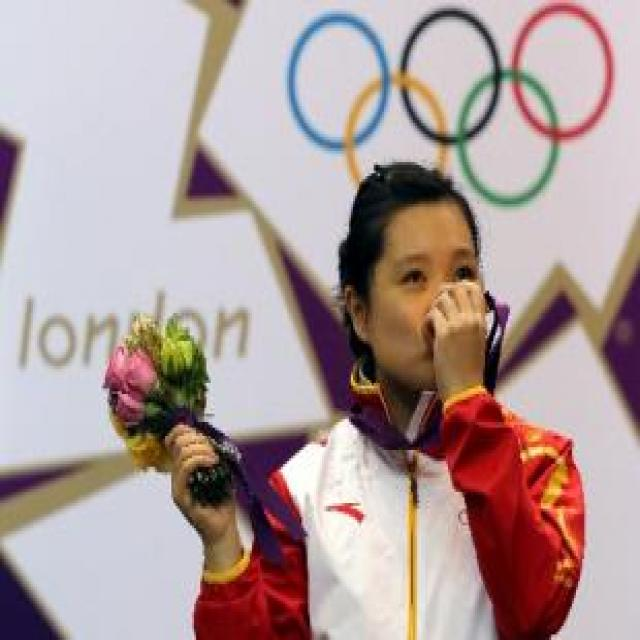nomask: (366, 200, 485, 381)
